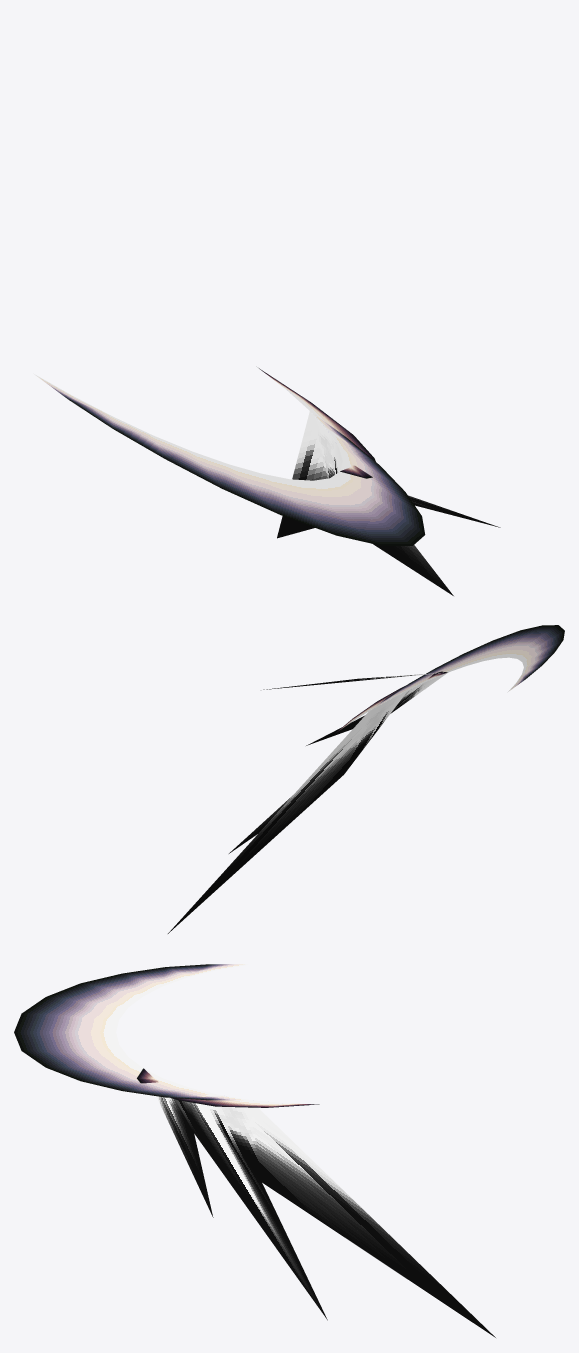
Rendered from vine-whip-shockwave.glb.
The picture shows the model from 3 angles, top to bottom: view 1: azimuth 30°, elevation 25°; view 2: azimuth 150°, elevation 25°; view 3: azimuth 270°, elevation 25°; orthographic projection. The views are drawn at different scales.
Visible parts, largest first — view 1: polygon0, polygon2, polygon1; view 2: polygon2, polygon0; view 3: polygon2, polygon0, polygon1.
Boxes of the visible parts, <box> form: polygon0: <box>33,373,425,545</box>; polygon2: <box>277,411,500,595</box>; polygon1: <box>259,368,375,478</box>; polygon2: <box>168,673,447,933</box>; polygon0: <box>370,625,564,710</box>; polygon2: <box>156,1096,495,1337</box>; polygon0: <box>14,964,248,1100</box>; polygon1: <box>137,1068,319,1107</box>.
Bounding box in the file's own units: 30.02 × 17.81 × 36.
3 materials, 3 textured.
